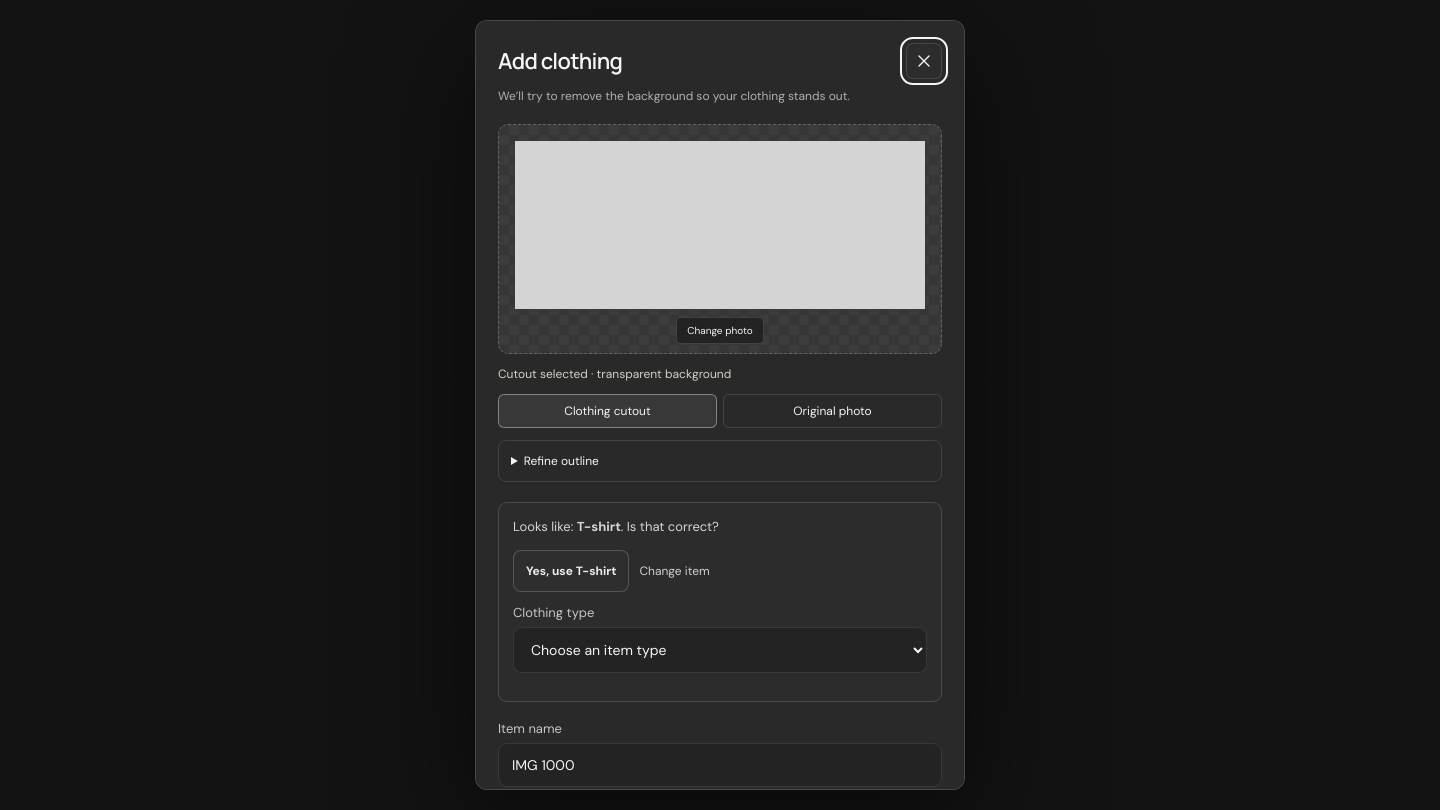
Test: asks for confirmation before filling the detected type, name, and category
Earlier steps of the test are not shown.
Later steps or results of the test are not shown.
Expected: the dropdown labelled "Clothing type" shows "Choose an item type", [513,627,927,673]
Expected: the field labelled "Item name" holds "IMG 1000", [498,743,942,787]
Step 1. Click the button "Yes, use T-shirt" → (571, 571), box [513,550,629,592]
(page scrolled)
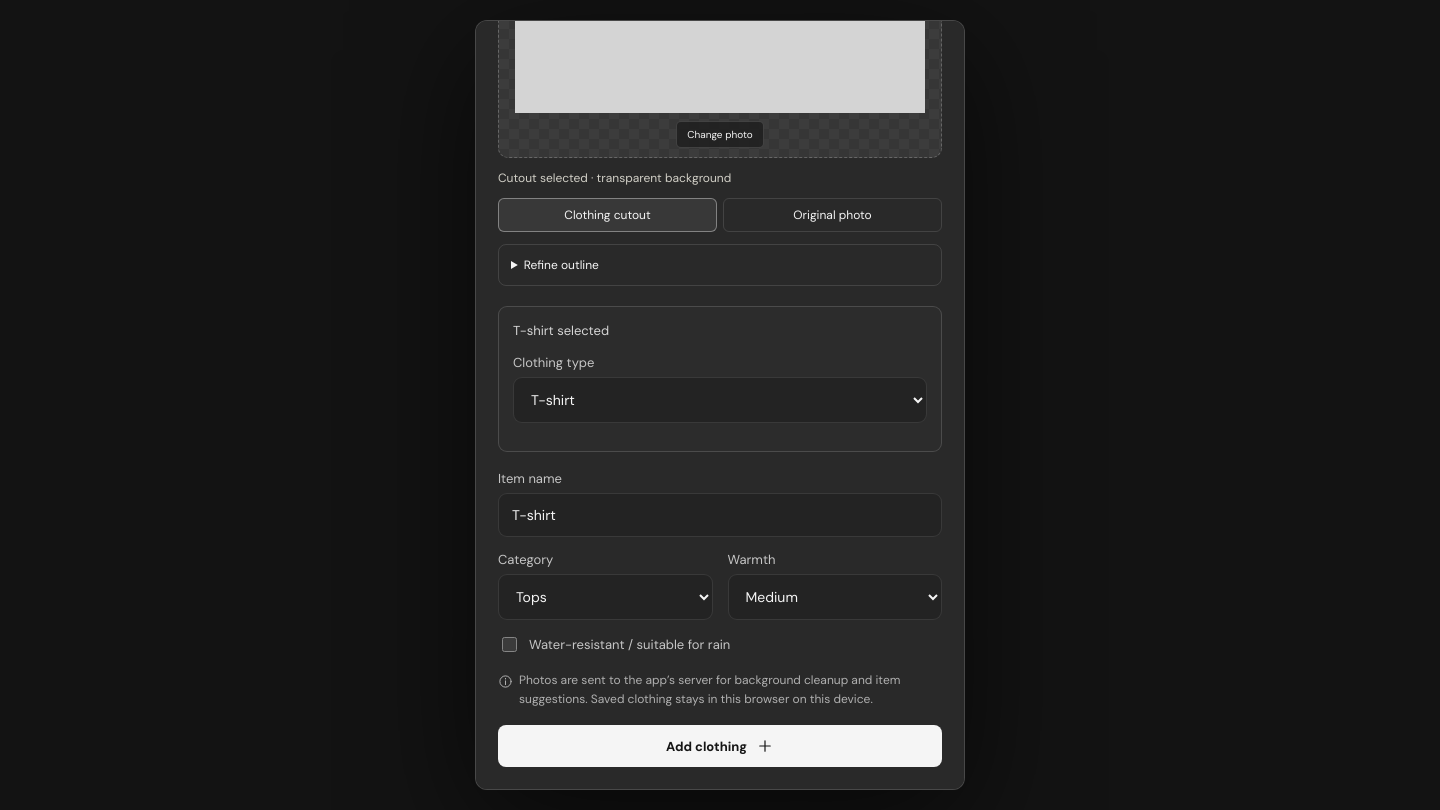
Now the dropdown labelled "Clothing type" shows "T-shirt", box [513,377,927,423]
Now the field labelled "Item name" holds "T-shirt", box [498,493,942,537]
Now the dropdown labelled "Category" shows "Tops", box [498,574,712,620]
